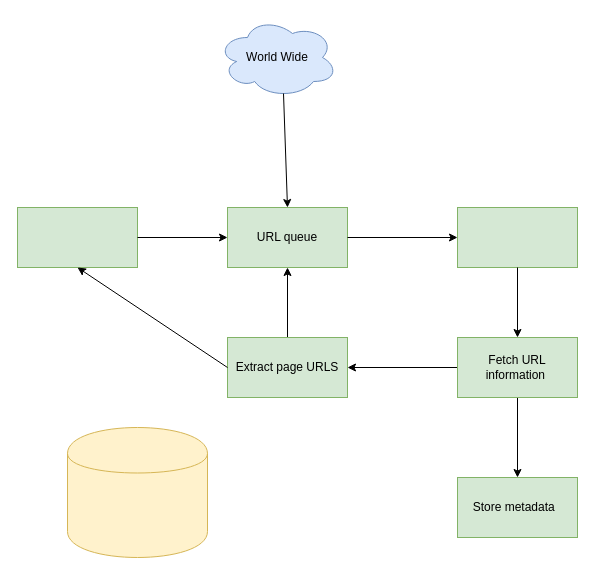
Image size: 595x575. Some labels were removed from this diagram. Each missing label, with the centre of its shape:
"Document/information management system" belongs at [137,492].
"Remove URL from queue" belongs at [517,237].
"URL seed list" belongs at [77,237].
